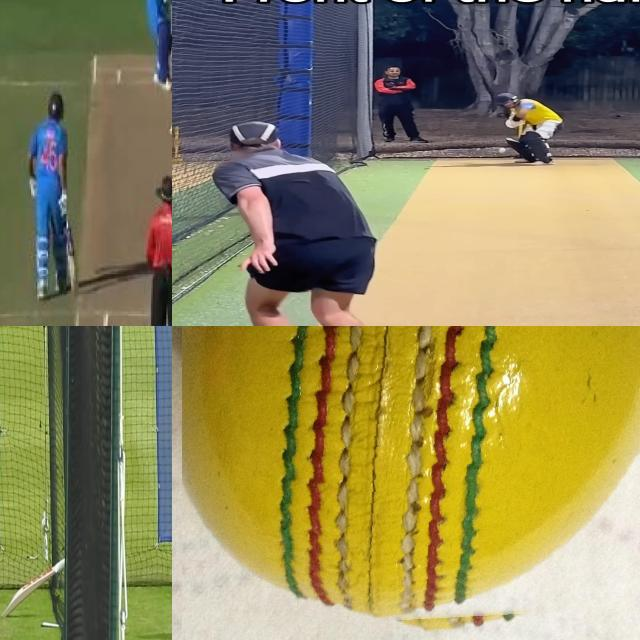Cricket ball: (182, 326, 640, 633), (497, 147, 507, 153), (168, 123, 172, 137)
